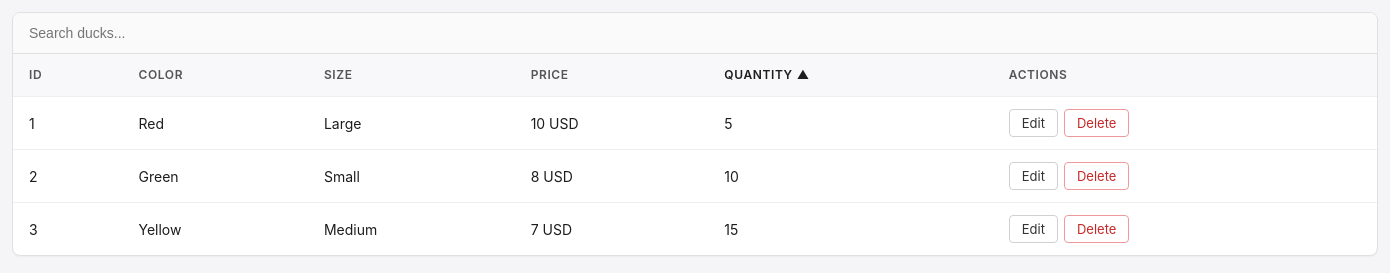
Test: DuckTable › should filter rows by the global search input
Type "Green" into the search field with placeholder "Search ducks..." at (695, 34), box [13, 13, 1377, 54]
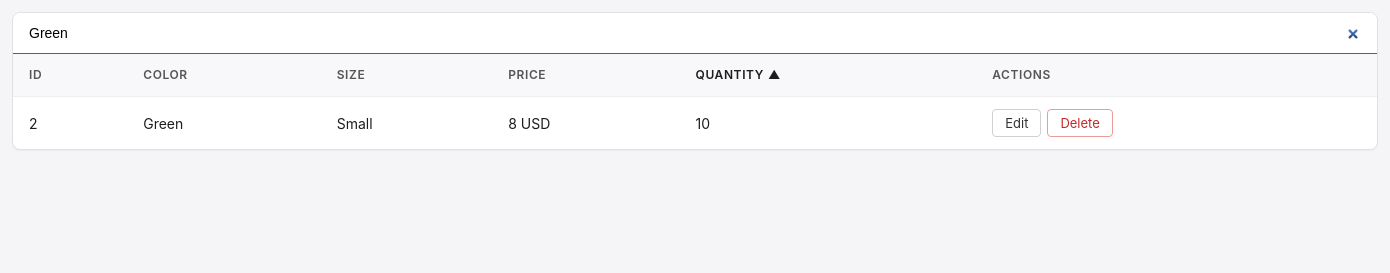
Check: the text "Green" is shown, box [127, 96, 321, 149]
Check: the text "Red" is gone
Check: the text "Yellow" is gone
